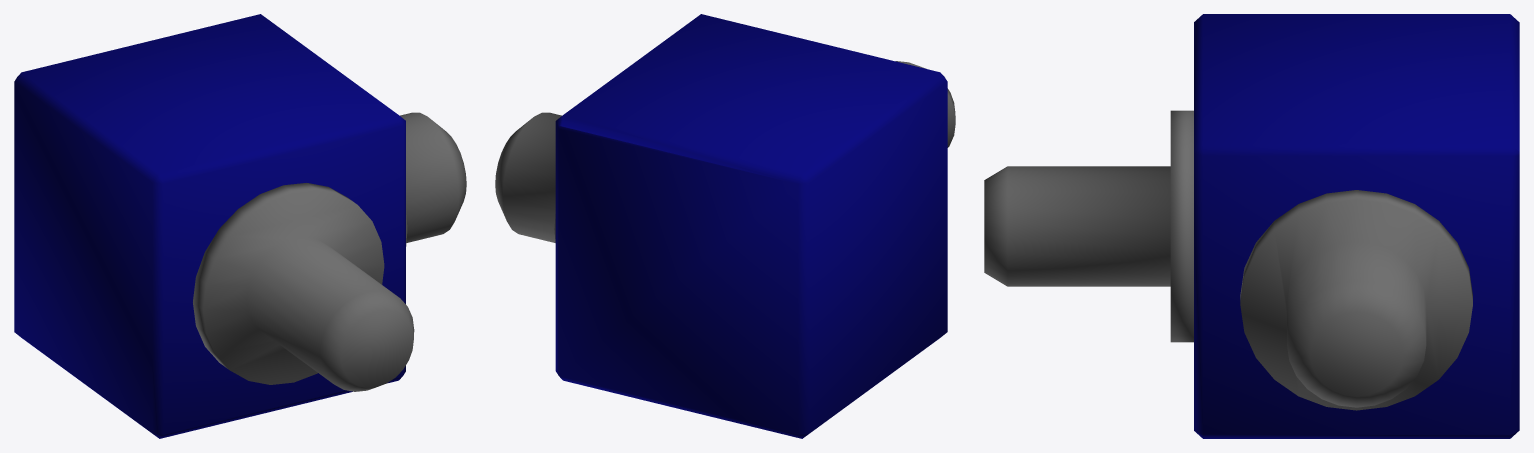
File: regulator_blue.dae
3 renders of one model, left to right at view 1: azimuth 30°, elevation 25°; view 2: azimuth 150°, elevation 25°; view 3: azimuth 270°, elevation 25°, orthographic. The views are drawn at different scales.
Visible parts, largest first — view 1: regulator_short_peg; view 2: regulator_short_peg; view 3: regulator_short_peg.
Boxes of the visible parts, x1=… form: regulator_short_peg: x1=14, y1=14, x2=466, y2=438; regulator_short_peg: x1=495, y1=14, x2=955, y2=438; regulator_short_peg: x1=984, y1=14, x2=1519, y2=438.
Bounding box in the file's own units: 0.1 × 0.115 × 0.07.
